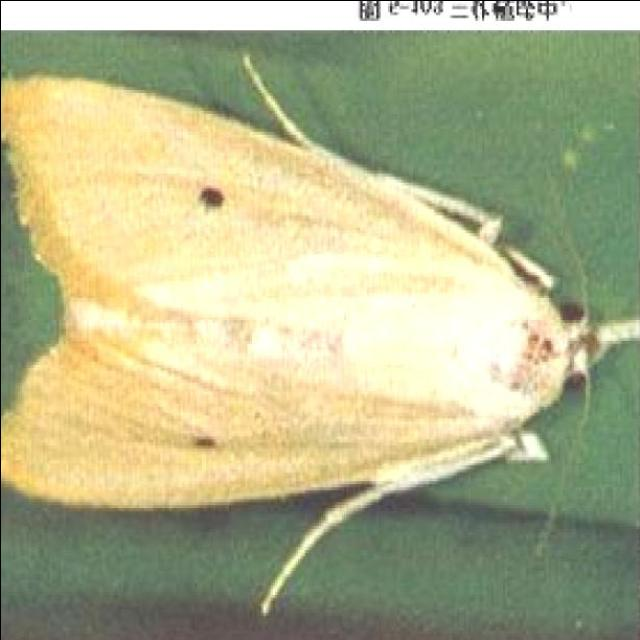stem borer: (0, 55, 640, 613)
